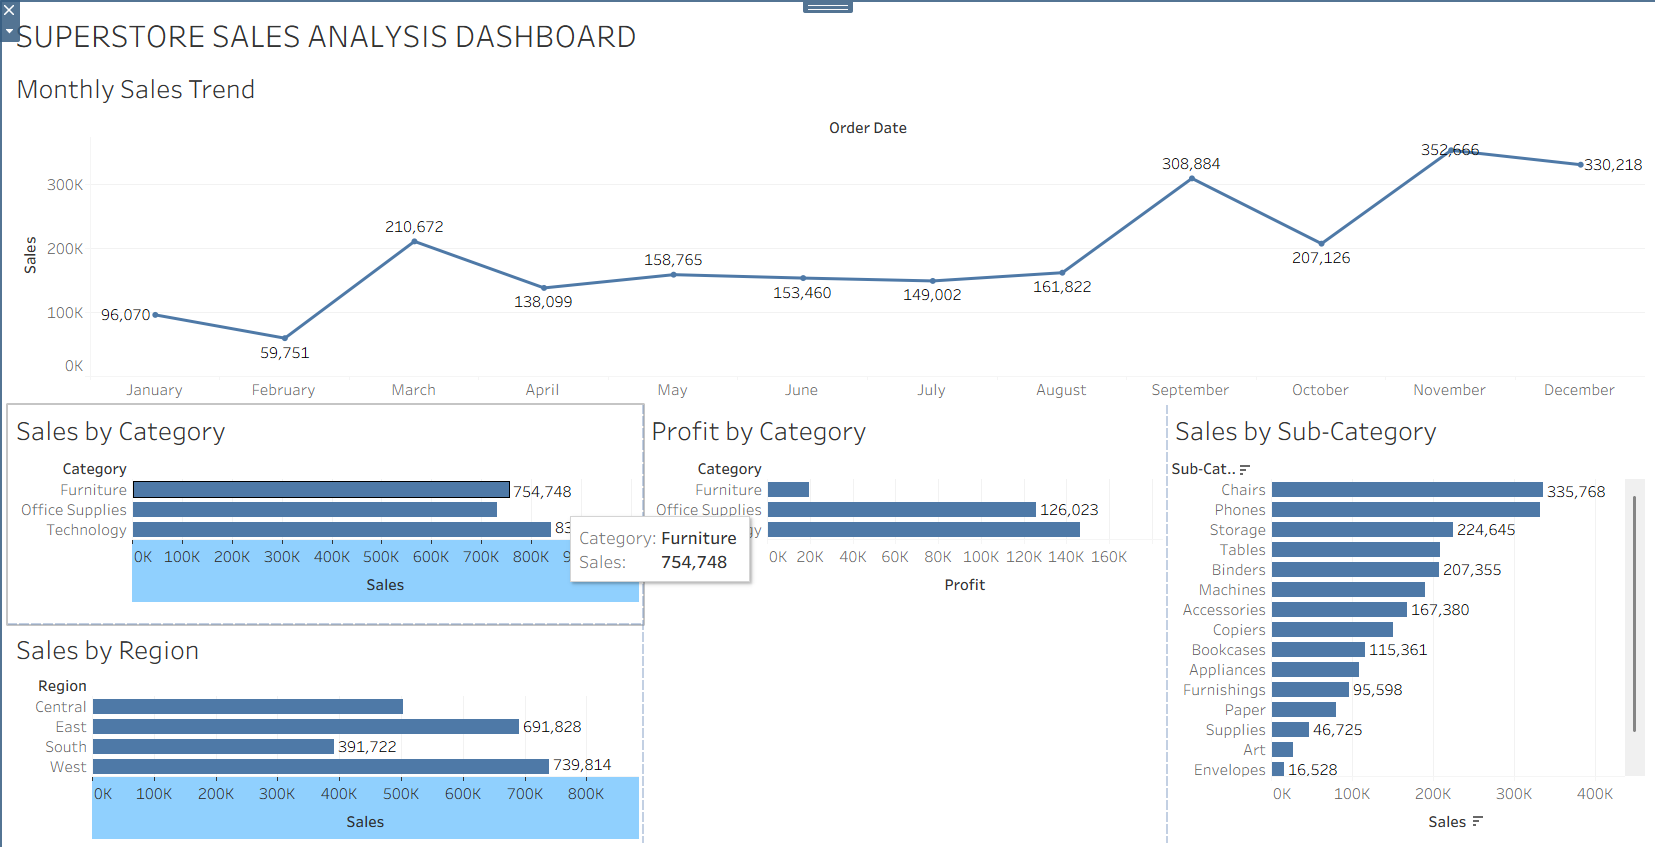

What the dashboard file says about the page in this screenshot:
{"tool":"tableau","page":{"name":"Dashboard 1","canvas":[1000,1000],"units":"permille","ordinal":0},"visuals":[{"type":"title","box":[4.8,9.4,990.3,64.6]},{"type":"worksheet","title":"Monthly Sales Trend","mark":"Automatic","rows":["Sales"],"cols":["Order Date"],"box":[4.8,74,990.3,401.9]},{"type":"worksheet","title":"Sales by Category","mark":"Automatic","rows":["Category"],"cols":["Sales"],"box":[4.8,475.9,383.2,257.3]},{"type":"worksheet","title":"Profit by Category","mark":"Automatic","rows":["Category"],"cols":["Profit"],"box":[388.1,475.9,316.2,514.7]},{"type":"worksheet","title":"Sales by Sub-Category","mark":"Automatic","rows":["Sub-Category"],"cols":["Sales"],"box":[704.3,475.9,290.9,514.7]},{"type":"worksheet","title":"Sales by Region","mark":"Automatic","rows":["Region"],"cols":["Sales"],"box":[4.8,733.2,383.2,257.4]}]}

Visuals, with their boxes on the dashboard's canvas, which has no fixed pixel size, in thousandths of its width and height (x1, y1, x2, y2). These are canvas units, not pixel positions in the 1655x847 screenshot, which may show the page scaled, cropped or inside an application window:
title: (left=5, top=9, right=995, bottom=74)
"Monthly Sales Trend" worksheet: (left=5, top=74, right=995, bottom=476)
"Sales by Category" worksheet: (left=5, top=476, right=388, bottom=733)
"Profit by Category" worksheet: (left=388, top=476, right=704, bottom=991)
"Sales by Sub-Category" worksheet: (left=704, top=476, right=995, bottom=991)
"Sales by Region" worksheet: (left=5, top=733, right=388, bottom=991)
